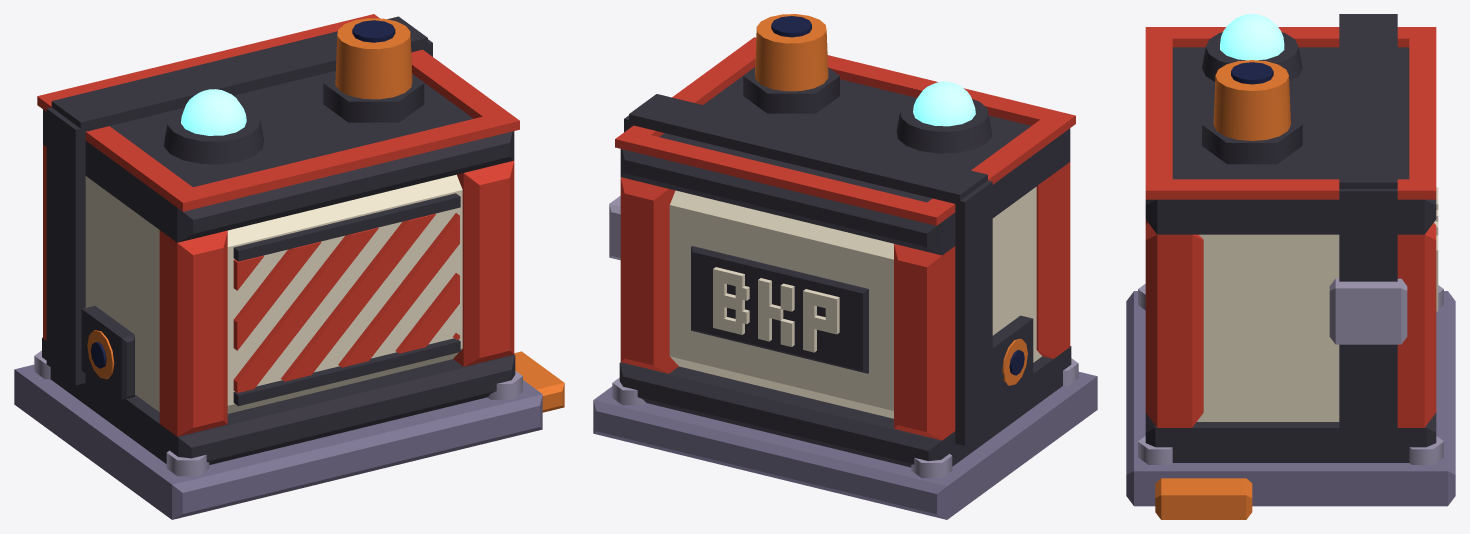
File: battery_backup.glb
The picture shows the model from 3 angles, left to right: view 1: azimuth 30°, elevation 25°; view 2: azimuth 150°, elevation 25°; view 3: azimuth 270°, elevation 25°; orthographic projection. The views are drawn at different scales.
Parts seen in each view (by area): view 1: case_red, case_graphite, case_creamHull, top_graphite, plate_purpleGrey, plate_orange, top_emissive, plate_purpleGreyLight, top_navy; view 2: case_graphite, case_red, case_creamHull, top_graphite, plate_purpleGrey, plate_orange, plate_purpleGreyLight, top_emissive, top_navy; view 3: case_red, case_graphite, top_graphite, case_creamHull, plate_purpleGrey, plate_orange, plate_purpleGreyLight, top_emissive, top_navy.
Boxes of the visible parts, x1,y1,x2,y2 form: case_red: (37, 14, 519, 436); case_graphite: (42, 71, 515, 464); case_creamHull: (85, 174, 462, 413); top_graphite: (46, 16, 432, 399); plate_purpleGrey: (14, 364, 542, 519); plate_orange: (87, 18, 564, 412); top_emissive: (181, 89, 246, 135); plate_purpleGreyLight: (34, 350, 522, 476); top_navy: (90, 20, 395, 368); case_graphite: (619, 67, 1071, 467); case_red: (615, 37, 1075, 440); case_creamHull: (669, 186, 1041, 418); top_graphite: (624, 67, 1033, 445); plate_purpleGrey: (593, 372, 1097, 519); plate_orange: (755, 14, 1027, 385); plate_purpleGreyLight: (609, 196, 1078, 478); top_emissive: (913, 81, 975, 126); top_navy: (771, 16, 1024, 375); case_red: (1145, 27, 1436, 427); case_graphite: (1145, 47, 1436, 462); top_graphite: (1202, 14, 1397, 445); case_creamHull: (1197, 187, 1438, 421); plate_purpleGrey: (1126, 291, 1455, 506); plate_orange: (1155, 60, 1290, 519); plate_purpleGreyLight: (1138, 278, 1443, 464); top_emissive: (1220, 14, 1284, 60); top_navy: (1231, 62, 1273, 84).
Bounding box in the file's own units: 0.241 × 0.2175 × 0.17.
